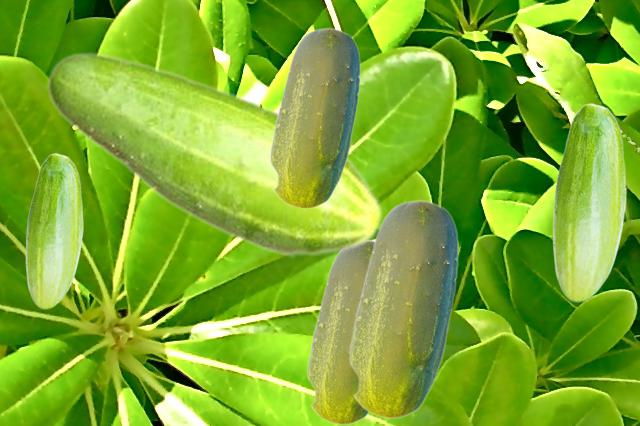cucumber: (46, 51, 383, 258), (348, 199, 457, 418), (269, 27, 359, 208), (552, 103, 625, 301), (306, 240, 373, 424), (25, 153, 82, 308)
